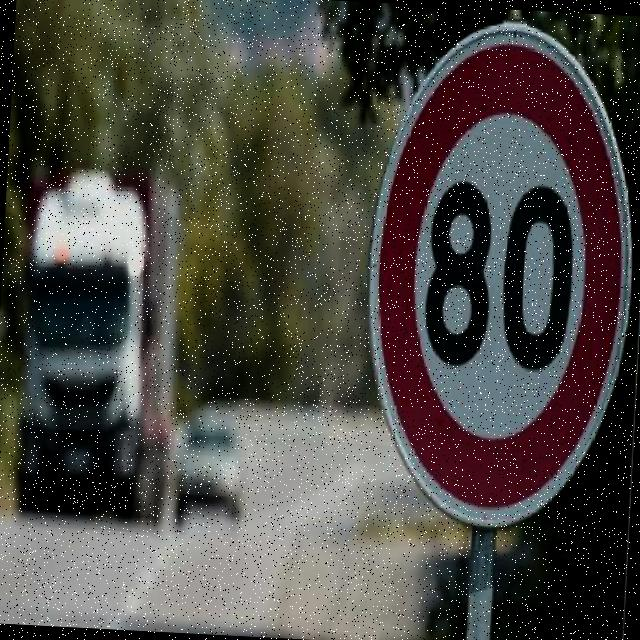Ograniczenie predkosci do 80: (366, 71, 625, 478)
